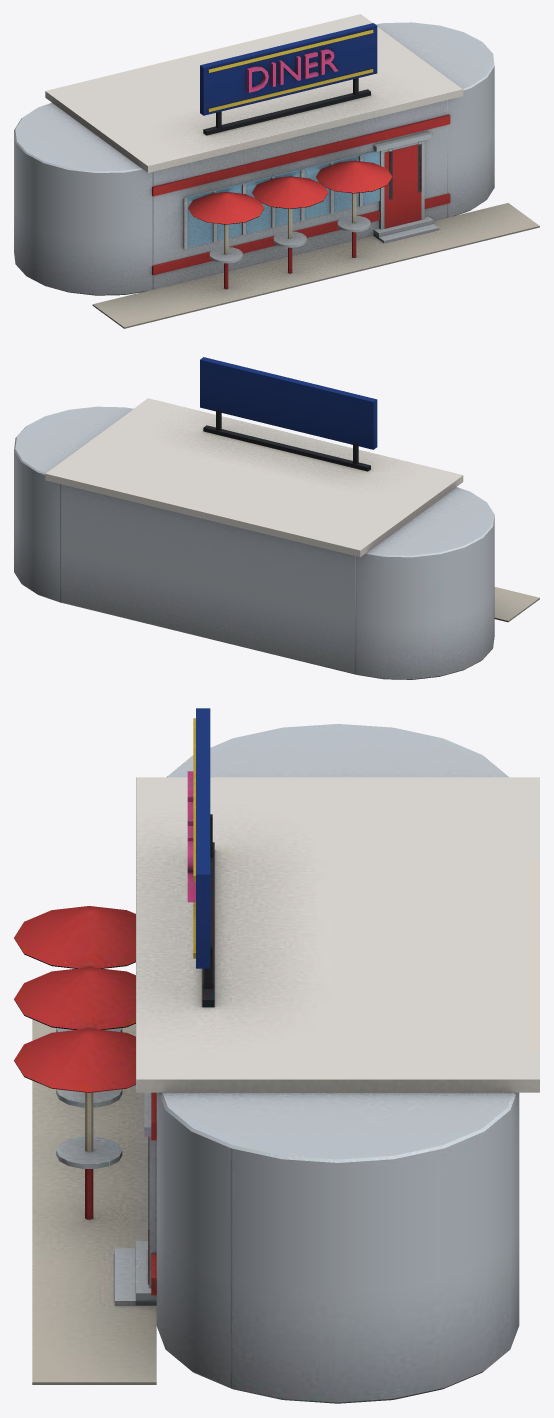
File: diner.glb
3 renders of one model, top to bottom at view 1: azimuth 30°, elevation 25°; view 2: azimuth 150°, elevation 25°; view 3: azimuth 270°, elevation 25°, orthographic. The views are drawn at different scales.
Visible parts, largest first — view 1: diner; view 2: diner; view 3: diner.
Boxes of the visible parts, x1,y1,x2,y2 form: diner: (14, 14, 539, 328); diner: (14, 357, 539, 679); diner: (14, 708, 539, 1403).
Bounding box in the file's own units: 10 × 4.2 × 5.08.
1 material, 1 textured.
